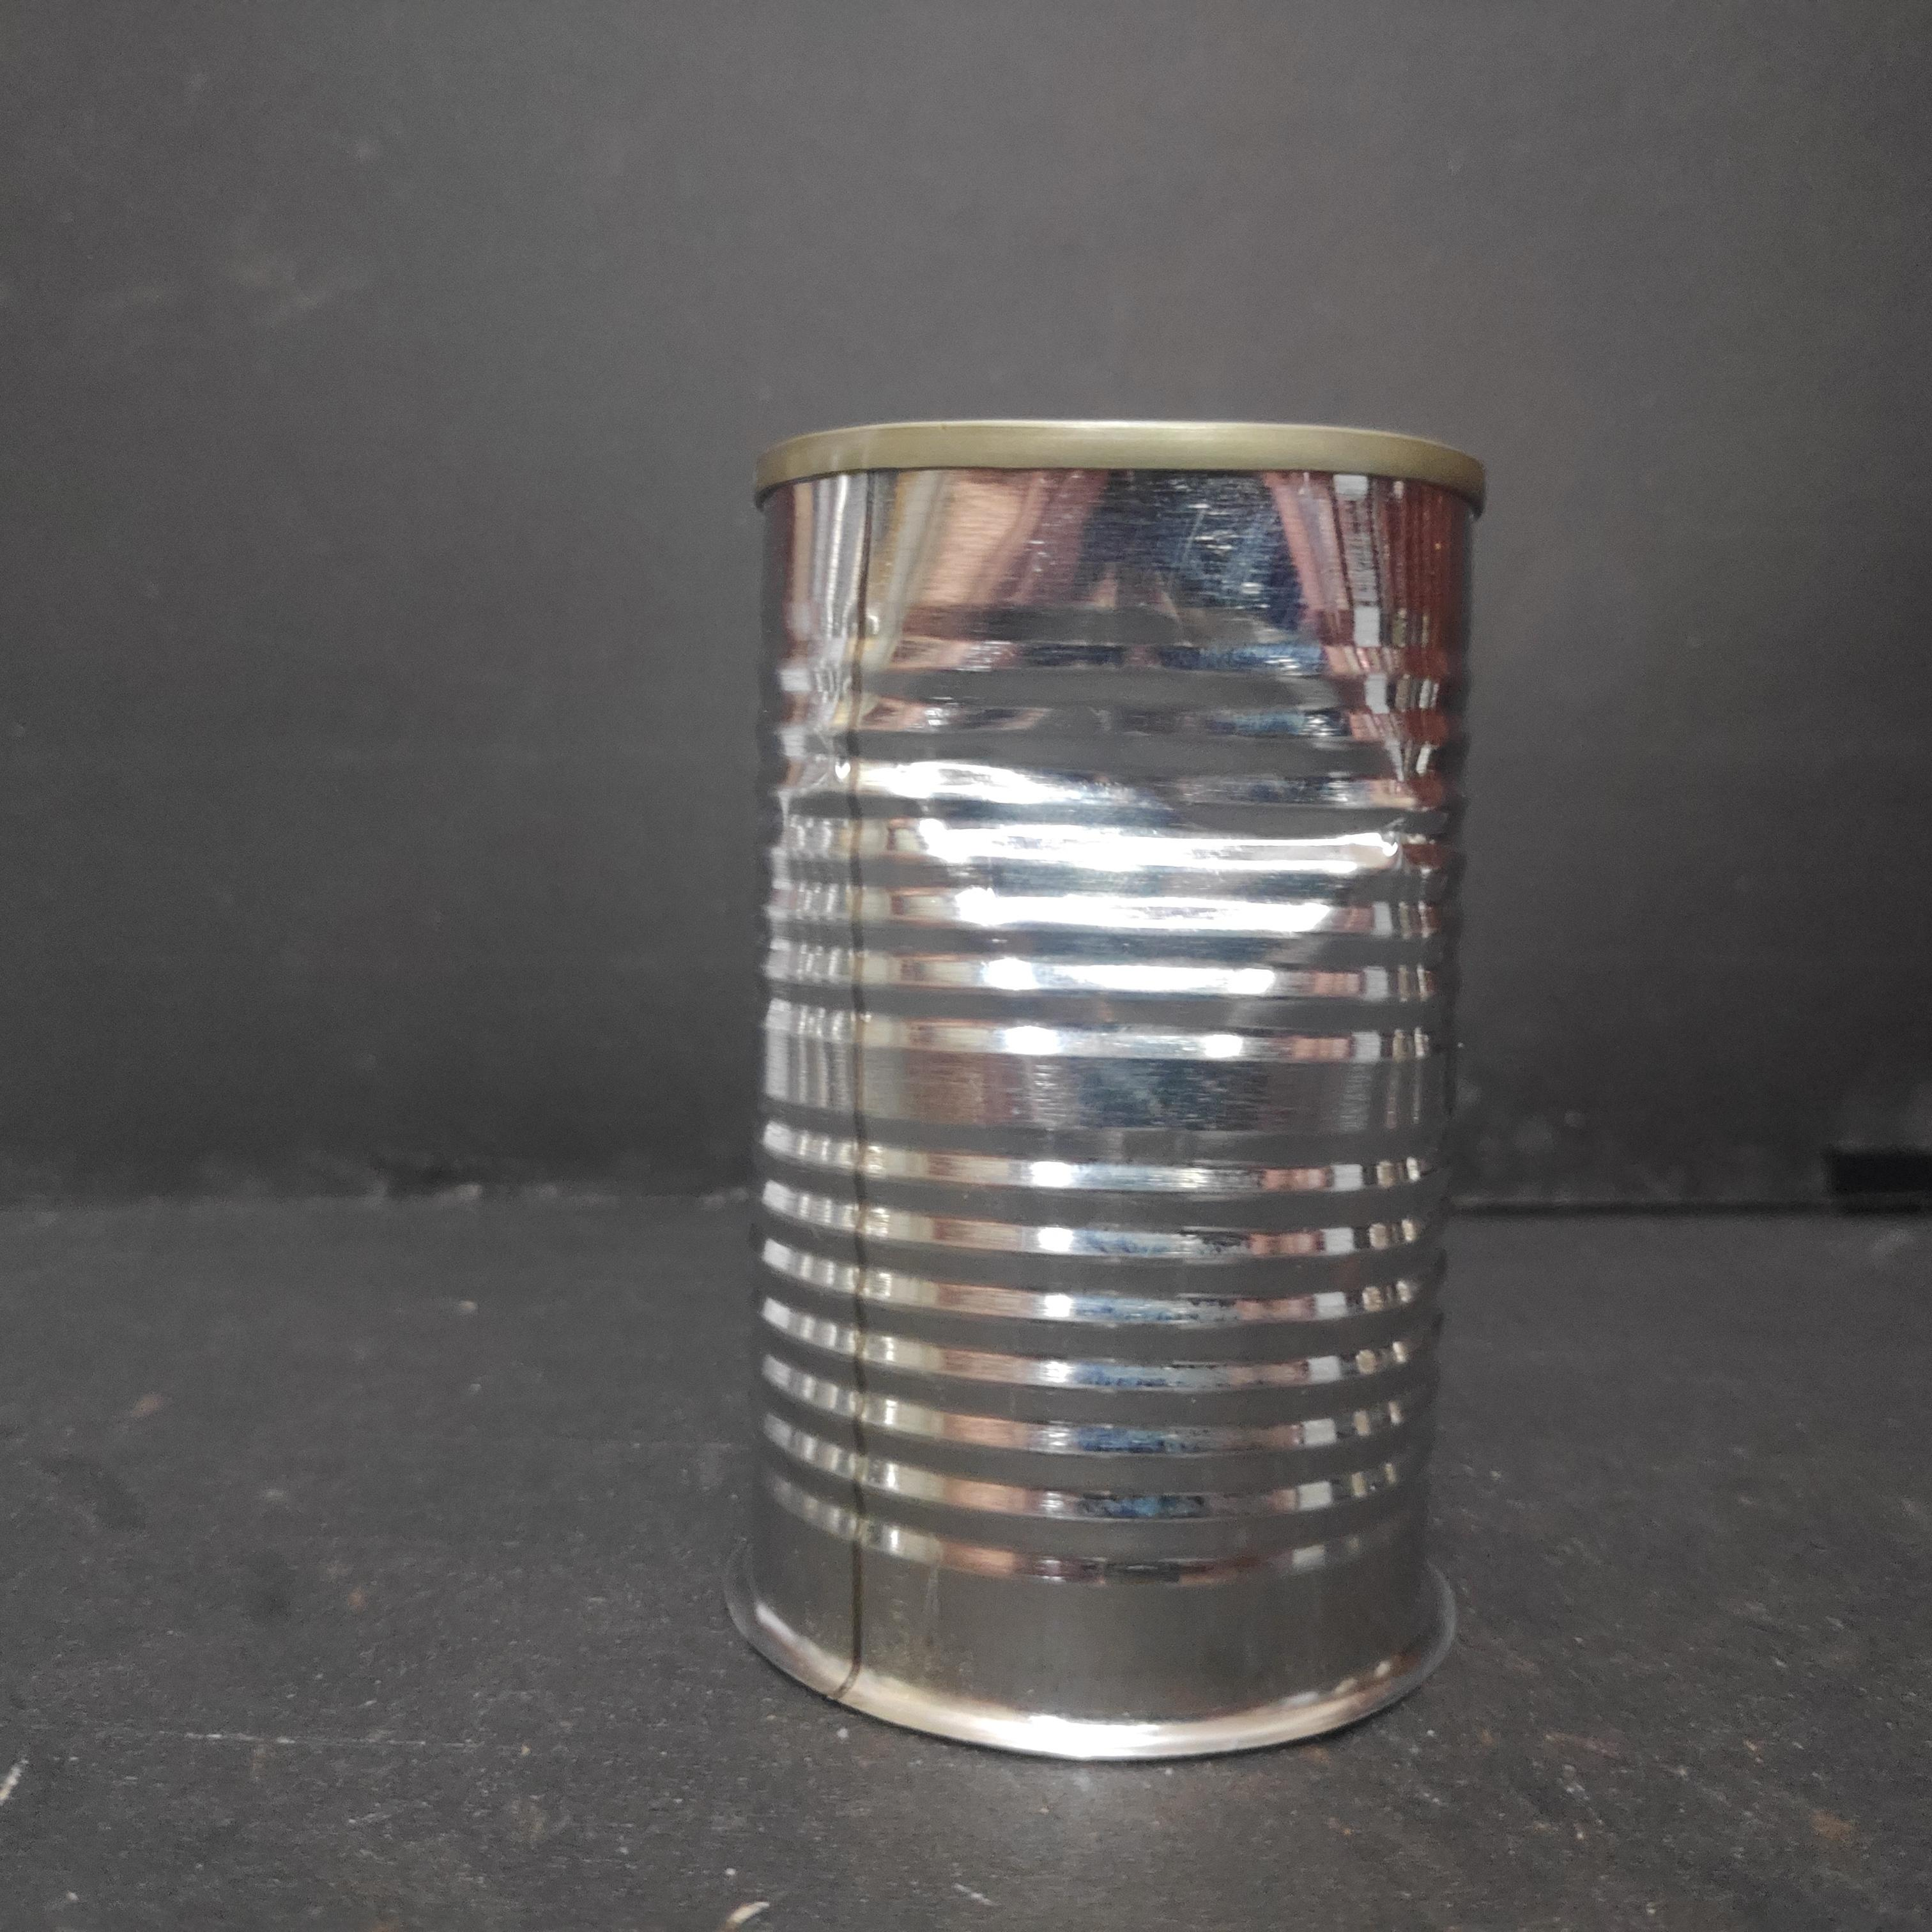Minor Defect: (732, 403, 1488, 1769)
